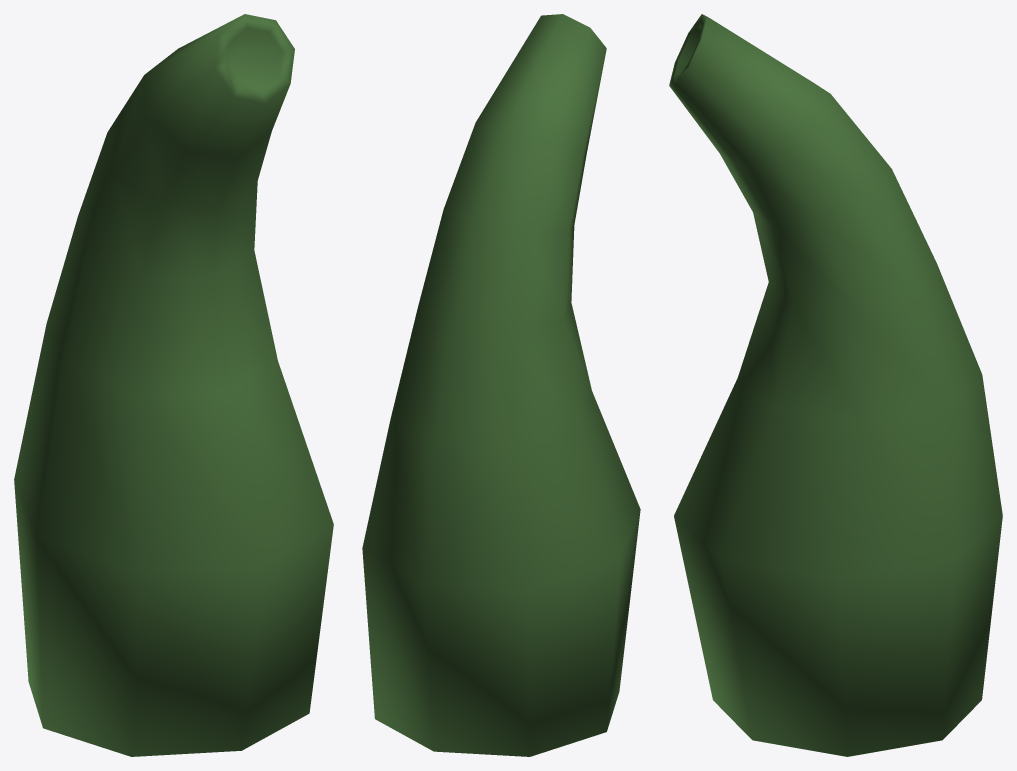
Rendered from rpgpp_ag_alchemy_bottle_02a.fbx.
3 renders of one model, left to right at view 1: azimuth 30°, elevation 25°; view 2: azimuth 150°, elevation 25°; view 3: azimuth 270°, elevation 25°, orthographic. The views are drawn at different scales.
Visible parts, largest first — view 1: rpgpp_ag_alchemy_bottle_02a; view 2: rpgpp_ag_alchemy_bottle_02a; view 3: rpgpp_ag_alchemy_bottle_02a.
Part boxes in pixels (x1=…): rpgpp_ag_alchemy_bottle_02a: x1=14, y1=14, x2=333, y2=756; rpgpp_ag_alchemy_bottle_02a: x1=362, y1=14, x2=640, y2=756; rpgpp_ag_alchemy_bottle_02a: x1=669, y1=14, x2=1002, y2=756.
Bounding box in the file's own units: 0.101 × 0.2599 × 0.115.
